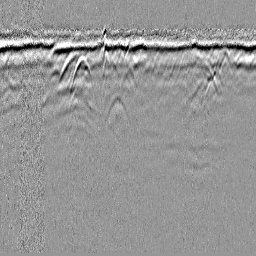cavity: (119, 61, 137, 91)
